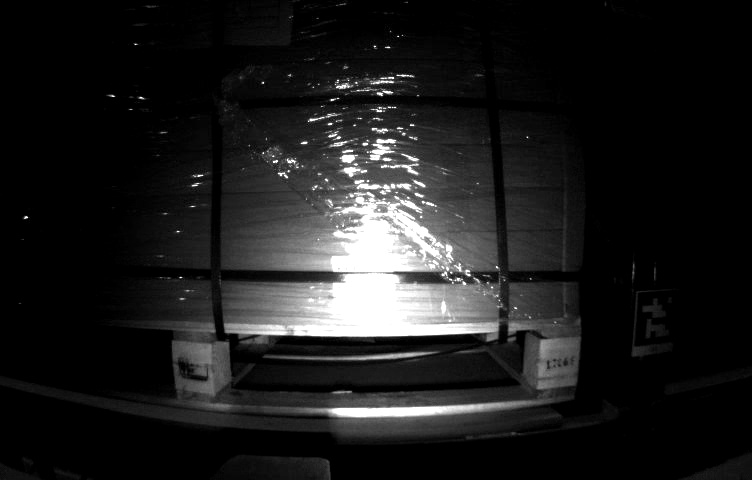True Barcode: (333, 256, 392, 309)
